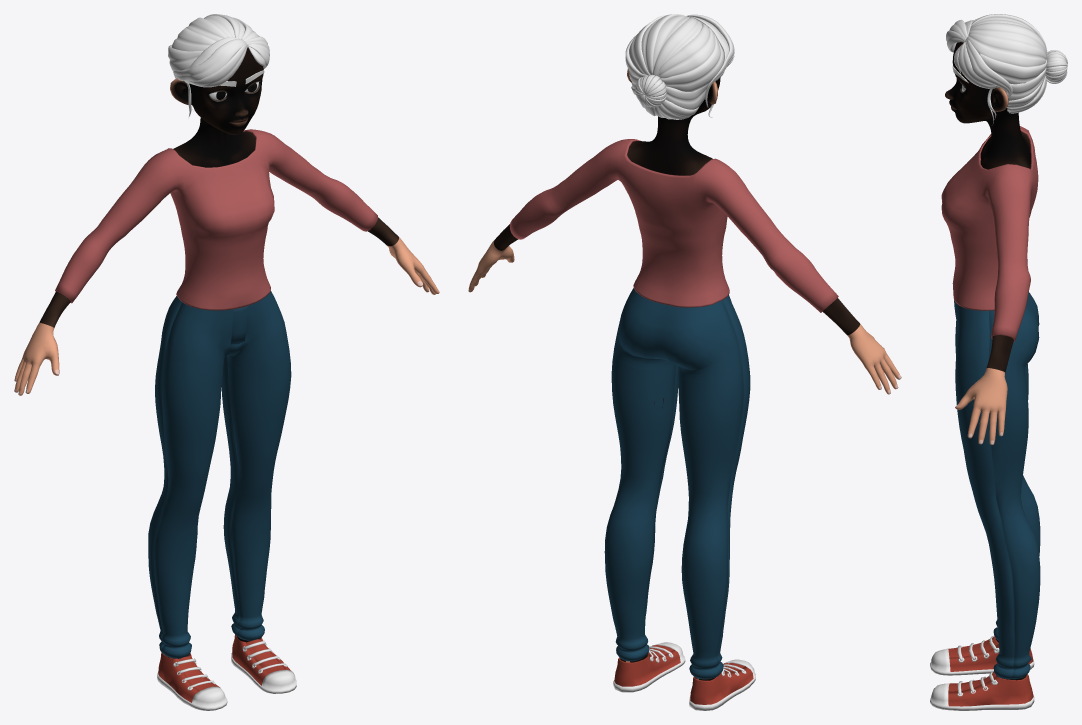
File: NinaRig_edit.fbx
3 renders of one model, left to right at view 1: azimuth 30°, elevation 25°; view 2: azimuth 150°, elevation 25°; view 3: azimuth 270°, elevation 25°, orthographic.
Parts seen in each view (by area): view 1: Nina_jeans.001, Nina_pullover.001, Nina_body.001, Nina_Hair1.002, Nina_shoes.001; view 2: Nina_jeans.001, Nina_pullover.001, Nina_Hair1.002, Nina_body.001, Nina_shoes.001; view 3: Nina_jeans.001, Nina_pullover.001, Nina_Hair1.002, Nina_body.001, Nina_shoes.001.
Boxes of the visible parts, <box> form: Nina_jeans.001: <box>148,290,291,658</box>; Nina_pullover.001: <box>55,129,377,310</box>; Nina_body.001: <box>14,47,439,658</box>; Nina_Hair1.002: <box>168,14,269,118</box>; Nina_shoes.001: <box>157,634,296,710</box>; Nina_jeans.001: <box>604,287,750,679</box>; Nina_pullover.001: <box>509,139,838,312</box>; Nina_Hair1.002: <box>625,14,734,119</box>; Nina_body.001: <box>468,68,901,680</box>; Nina_shoes.001: <box>613,642,755,710</box>; Nina_jeans.001: <box>954,292,1040,679</box>; Nina_pullover.001: <box>941,126,1038,341</box>; Nina_Hair1.002: <box>946,14,1067,125</box>; Nina_body.001: <box>945,42,1030,680</box>; Nina_shoes.001: <box>930,636,1034,710</box>.
Size of the model in its own units: 113 by 169 by 31.76.
